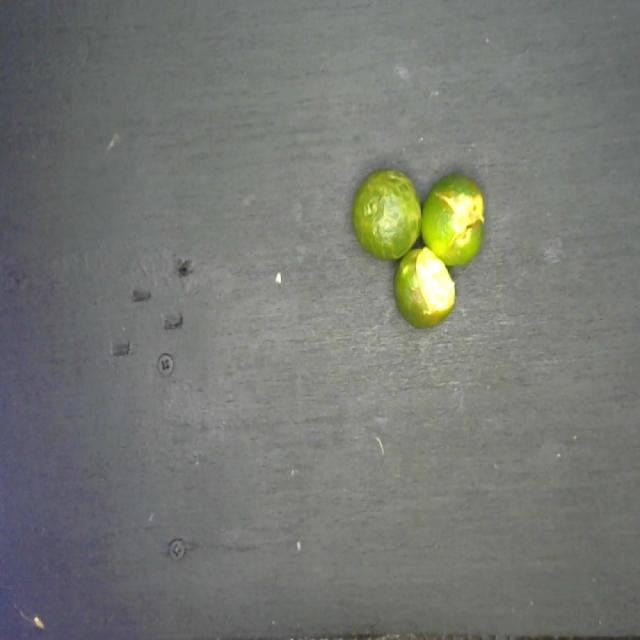biodegradable: (344, 157, 492, 335)
